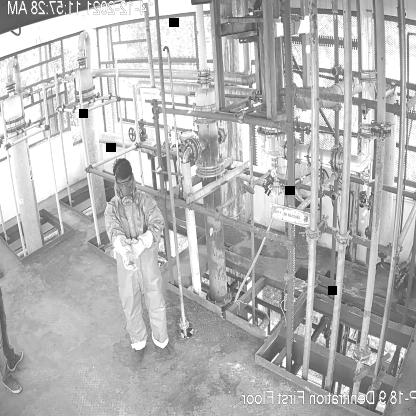goggles: (115, 176, 133, 186)
mask: (118, 184, 135, 206)
